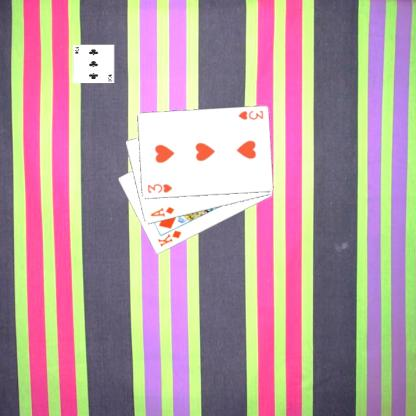3H: (235, 108, 264, 121), (145, 181, 173, 194)
AD: (148, 204, 176, 218)
KD: (155, 228, 183, 248)
